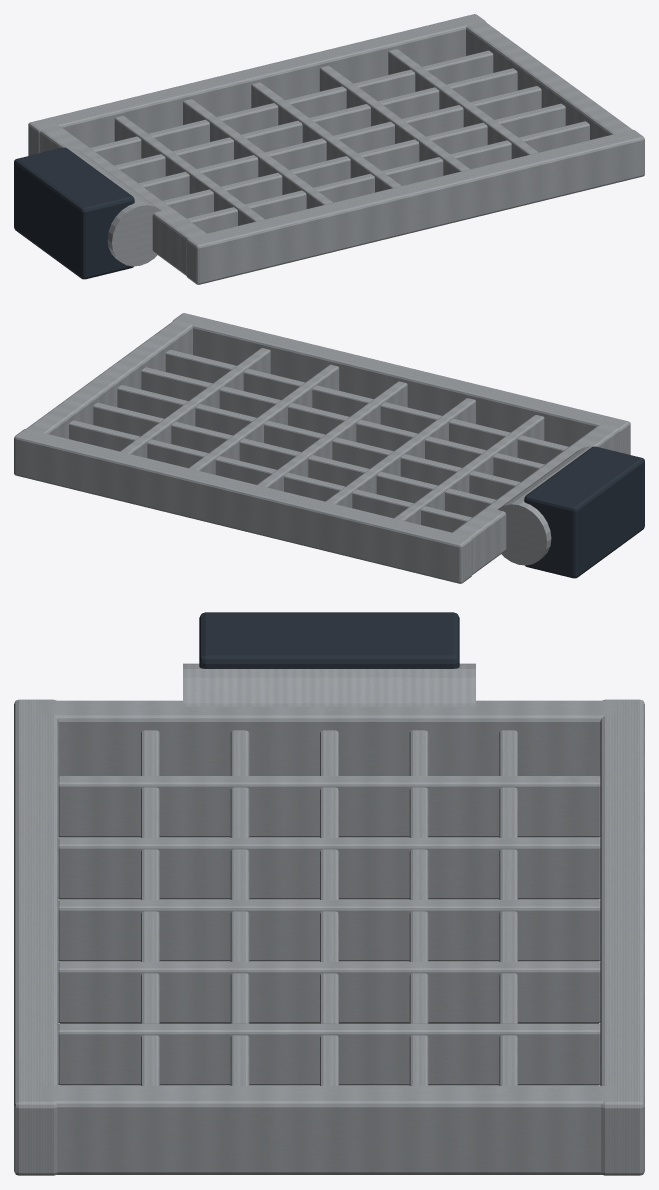
The model's file is grid_fin.glb.
The picture shows the model from 3 angles, top to bottom: view 1: azimuth 30°, elevation 25°; view 2: azimuth 150°, elevation 25°; view 3: azimuth 270°, elevation 25°; orthographic projection. The views are drawn at different scales.
Parts seen in each view (by area): view 1: Frame_Long, Frame_Long.001, Hinge_Mount, Grid_Longitudinal.004, Grid_Longitudinal.001, Grid_Longitudinal.002, Grid_Longitudinal.003, Grid_Longitudinal, Frame_End.001, Frame_End, Hinge_Axle, Grid_Transverse.002 (+4 smaller); view 2: Frame_Long.001, Frame_Long, Hinge_Mount, Grid_Longitudinal, Grid_Longitudinal.003, Grid_Longitudinal.002, Grid_Longitudinal.001, Grid_Longitudinal.004, Frame_End.001, Frame_End, Hinge_Axle, Grid_Transverse.002 (+4 smaller); view 3: Frame_End.001, Frame_End, Grid_Transverse.004, Grid_Transverse, Grid_Transverse.001, Grid_Transverse.002, Grid_Transverse.003, Frame_Long, Frame_Long.001, Hinge_Mount, Hinge_Axle, Grid_Longitudinal.001 (+4 smaller).
Part boxes in pixels (x1,y1,x2,y2): Frame_Long: [186, 129, 644, 284]; Frame_Long.001: [28, 14, 486, 155]; Hinge_Mount: [14, 147, 134, 279]; Grid_Longitudinal.004: [90, 50, 493, 165]; Grid_Longitudinal.001: [162, 103, 565, 218]; Grid_Longitudinal.002: [138, 86, 541, 200]; Grid_Longitudinal.003: [114, 68, 517, 182]; Grid_Longitudinal: [186, 121, 589, 233]; Frame_End.001: [464, 19, 632, 139]; Frame_End: [38, 123, 208, 275]; Hinge_Axle: [66, 147, 160, 266]; Grid_Transverse.002: [251, 82, 401, 192]; Frame_Long.001: [14, 428, 472, 583]; Frame_Long: [172, 313, 630, 454]; Hinge_Mount: [524, 446, 644, 578]; Grid_Longitudinal: [165, 349, 568, 464]; Grid_Longitudinal.003: [93, 402, 496, 517]; Grid_Longitudinal.002: [117, 385, 520, 499]; Grid_Longitudinal.001: [141, 367, 544, 481]; Grid_Longitudinal.004: [69, 420, 472, 532]; Frame_End.001: [26, 318, 194, 438]; Frame_End: [450, 422, 620, 574]; Hinge_Axle: [498, 446, 592, 565]; Grid_Transverse.002: [257, 381, 407, 491]; Frame_End.001: [41, 1086, 617, 1174]; Frame_End: [41, 700, 617, 776]; Grid_Transverse.004: [58, 1023, 600, 1085]; Grid_Transverse: [58, 776, 600, 837]; Grid_Transverse.001: [58, 838, 600, 899]; Grid_Transverse.002: [58, 900, 600, 961]; Grid_Transverse.003: [58, 962, 600, 1023]; Frame_Long: [14, 699, 58, 1175]; Frame_Long.001: [600, 699, 644, 1175]; Hinge_Mount: [199, 612, 459, 668]; Hinge_Axle: [183, 663, 475, 706]; Grid_Longitudinal.001: [230, 730, 249, 1085].
Size of the model in its own units: 1.35 by 0.18 by 0.775.
Materials: 2 (1 with a texture image).
